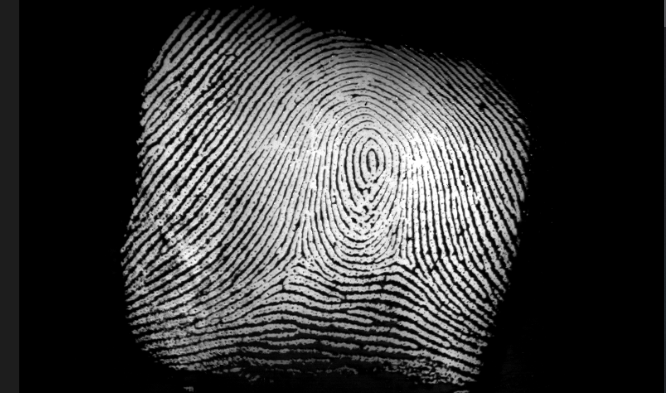nucelo: (359, 135, 384, 184)
verticilo: (383, 233, 411, 276), (284, 235, 311, 272)
